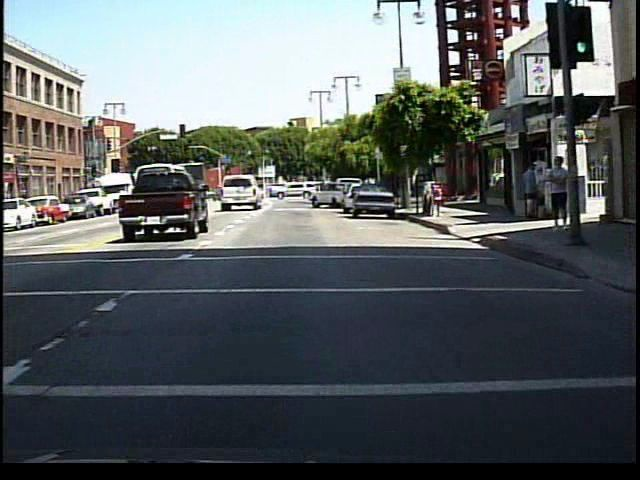person: (542, 155, 570, 233), (520, 160, 537, 223)
